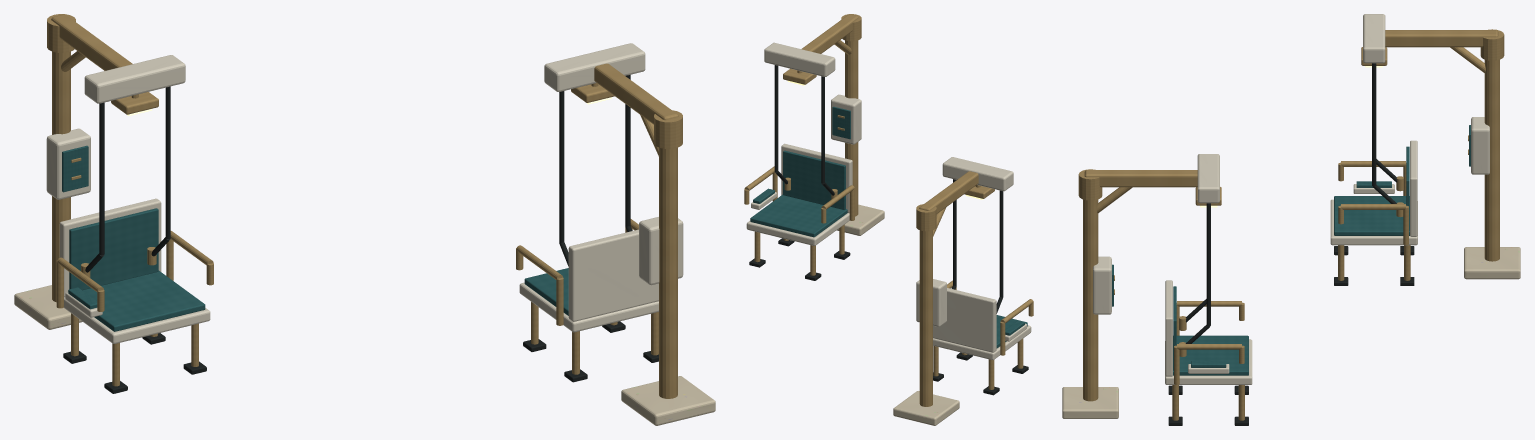
File: Group6ThermalSupport_03_r002.glb
3 views of the same model, side by side, from view 1: azimuth 30°, elevation 25°; view 2: azimuth 150°, elevation 25°; view 3: azimuth 270°, elevation 25° (orthographic). The views are drawn at different scales.
Parts seen in each view (by area): view 1: G6_SUPPORT_03__station_1_seat_back_load, G6_SUPPORT_03__station_0_seat_back_pad, G6_SUPPORT_03__station_1_mast_load_column, G6_SUPPORT_03__station_0_seat_pad, G6_SUPPORT_03__station_0_parked_head, G6_SUPPORT_03__station_1_mast_floor_anchor, G6_SUPPORT_03__station_1_parked_head, G6_SUPPORT_03__station_0_mast_load_column, G6_SUPPORT_03__station_1_parked_lift_arm, G6_SUPPORT_03__station_0_seat_load_pan, G6_SUPPORT_03__station_0_control_shroud, G6_SUPPORT_03__station_0_parked_lift_arm (+12 smaller); view 2: G6_SUPPORT_03__station_0_seat_back_load, G6_SUPPORT_03__station_1_seat_back_pad, G6_SUPPORT_03__station_0_mast_load_column, G6_SUPPORT_03__station_1_seat_pad, G6_SUPPORT_03__station_1_parked_head, G6_SUPPORT_03__station_0_parked_head, G6_SUPPORT_03__station_0_mast_floor_anchor, G6_SUPPORT_03__station_1_mast_load_column, G6_SUPPORT_03__station_1_seat_load_pan, G6_SUPPORT_03__station_0_parked_lift_arm, G6_SUPPORT_03__station_1_control_shroud, G6_SUPPORT_03__station_1_parked_lift_arm (+12 smaller); view 3: G6_SUPPORT_03__station_0_mast_load_column, G6_SUPPORT_03__station_1_mast_load_column, G6_SUPPORT_03__station_0_seat_pad, G6_SUPPORT_03__station_1_seat_pad, G6_SUPPORT_03__station_0_parked_lift_arm, G6_SUPPORT_03__station_1_parked_lift_arm, G6_SUPPORT_03__station_0_mast_floor_anchor, G6_SUPPORT_03__station_1_mast_floor_anchor, G6_SUPPORT_03__station_0_parked_head, G6_SUPPORT_03__station_1_parked_head, G6_SUPPORT_03__station_1_control_shroud, G6_SUPPORT_03__station_0_control_shroud (+8 smaller).
Boxes of the visible parts, bbox=[...] form: G6_SUPPORT_03__station_1_seat_back_load: bbox=[568, 229, 658, 321]; G6_SUPPORT_03__station_0_seat_back_pad: bbox=[69, 208, 158, 290]; G6_SUPPORT_03__station_1_mast_load_column: bbox=[659, 147, 677, 398]; G6_SUPPORT_03__station_0_seat_pad: bbox=[67, 270, 205, 331]; G6_SUPPORT_03__station_0_parked_head: bbox=[84, 55, 185, 103]; G6_SUPPORT_03__station_1_mast_floor_anchor: bbox=[621, 376, 715, 425]; G6_SUPPORT_03__station_1_parked_head: bbox=[544, 43, 645, 91]; G6_SUPPORT_03__station_0_mast_load_column: bbox=[52, 51, 70, 302]; G6_SUPPORT_03__station_1_parked_lift_arm: bbox=[594, 63, 678, 124]; G6_SUPPORT_03__station_0_seat_load_pan: bbox=[63, 297, 210, 343]; G6_SUPPORT_03__station_0_control_shroud: bbox=[46, 128, 90, 199]; G6_SUPPORT_03__station_0_parked_lift_arm: bbox=[51, 14, 132, 70]; G6_SUPPORT_03__station_0_seat_back_load: bbox=[933, 288, 996, 352]; G6_SUPPORT_03__station_1_seat_back_pad: bbox=[783, 150, 845, 209]; G6_SUPPORT_03__station_0_mast_load_column: bbox=[919, 230, 932, 406]; G6_SUPPORT_03__station_1_seat_pad: bbox=[750, 194, 847, 237]; G6_SUPPORT_03__station_1_parked_head: bbox=[764, 42, 835, 76]; G6_SUPPORT_03__station_0_parked_head: bbox=[942, 157, 1013, 191]; G6_SUPPORT_03__station_0_mast_floor_anchor: bbox=[893, 391, 959, 425]; G6_SUPPORT_03__station_1_mast_load_column: bbox=[845, 40, 858, 216]; G6_SUPPORT_03__station_1_seat_load_pan: bbox=[746, 213, 849, 245]; G6_SUPPORT_03__station_0_parked_lift_arm: bbox=[919, 171, 978, 213]; G6_SUPPORT_03__station_1_control_shroud: bbox=[831, 94, 861, 144]; G6_SUPPORT_03__station_1_parked_lift_arm: bbox=[801, 14, 858, 53]; G6_SUPPORT_03__station_0_mast_load_column: bbox=[1484, 59, 1499, 261]; G6_SUPPORT_03__station_1_mast_load_column: bbox=[1083, 199, 1098, 401]; G6_SUPPORT_03__station_0_seat_pad: bbox=[1334, 196, 1409, 235]; G6_SUPPORT_03__station_1_seat_pad: bbox=[1173, 335, 1248, 375]; G6_SUPPORT_03__station_0_parked_lift_arm: bbox=[1385, 30, 1498, 47]; G6_SUPPORT_03__station_1_parked_lift_arm: bbox=[1084, 170, 1197, 187]; G6_SUPPORT_03__station_0_mast_floor_anchor: bbox=[1464, 247, 1520, 279]; G6_SUPPORT_03__station_1_mast_floor_anchor: bbox=[1062, 387, 1118, 418]; G6_SUPPORT_03__station_0_parked_head: bbox=[1363, 14, 1385, 63]; G6_SUPPORT_03__station_1_parked_head: bbox=[1197, 154, 1219, 203]; G6_SUPPORT_03__station_1_control_shroud: bbox=[1093, 256, 1111, 314]; G6_SUPPORT_03__station_0_control_shroud: bbox=[1471, 117, 1489, 174].
Bounding box in the file's own units: 3.71 × 2.22 × 3.88.
Materials: 6 (5 with a texture image).
